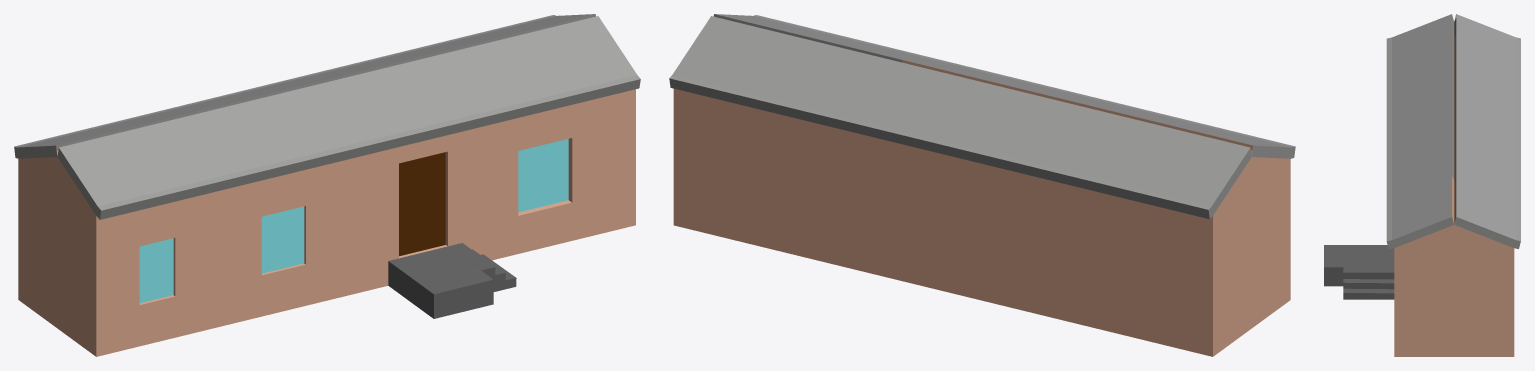
Rendered from TrailerHome.fbx.
The picture shows the model from 3 angles, left to right: view 1: azimuth 30°, elevation 25°; view 2: azimuth 150°, elevation 25°; view 3: azimuth 270°, elevation 25°; orthographic projection. The views are drawn at different scales.
Parts seen in each view (by area): view 1: Cube; view 2: Cube; view 3: Cube.
Boxes of the visible parts, bbox=[...] form: Cube: bbox=[14, 14, 640, 356]; Cube: bbox=[669, 14, 1295, 356]; Cube: bbox=[1324, 14, 1520, 356].
Size of the model in its own units: 4000 by 1289 by 1640.
